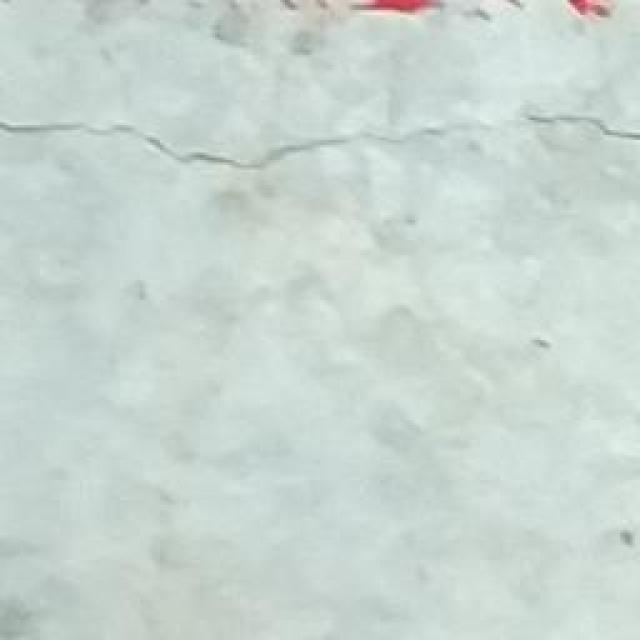Transverse: (1, 104, 640, 180)
